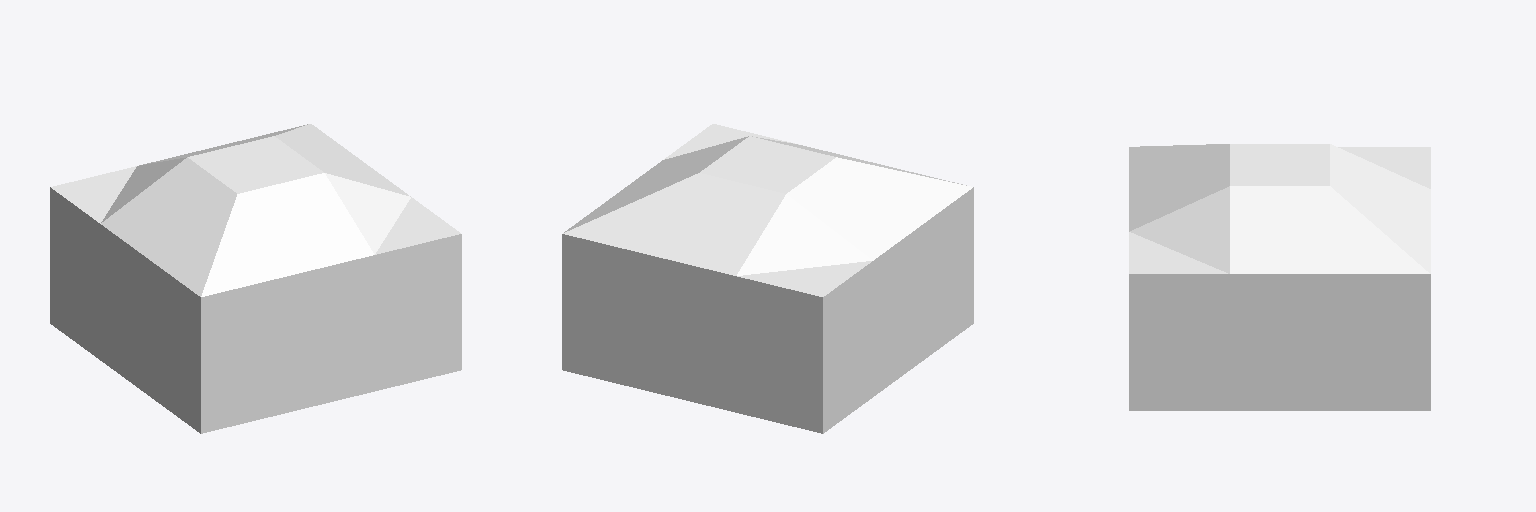
Rendered from kappa.obj.
3 renders of one model, left to right at view 1: azimuth 30°, elevation 25°; view 2: azimuth 150°, elevation 25°; view 3: azimuth 270°, elevation 25°, orthographic.
Visible parts, largest first — view 1: grp3, grp2; view 2: grp3, grp2; view 3: grp3, grp2.
Part boxes in pixels (x1,y1,x2,y2): grp3: (50, 187, 461, 433); grp2: (51, 124, 460, 296); grp3: (562, 187, 973, 433); grp2: (563, 124, 972, 296); grp3: (1129, 274, 1430, 410); grp2: (1129, 144, 1430, 273).
Size of the model in its own units: 90 by 60 by 90.